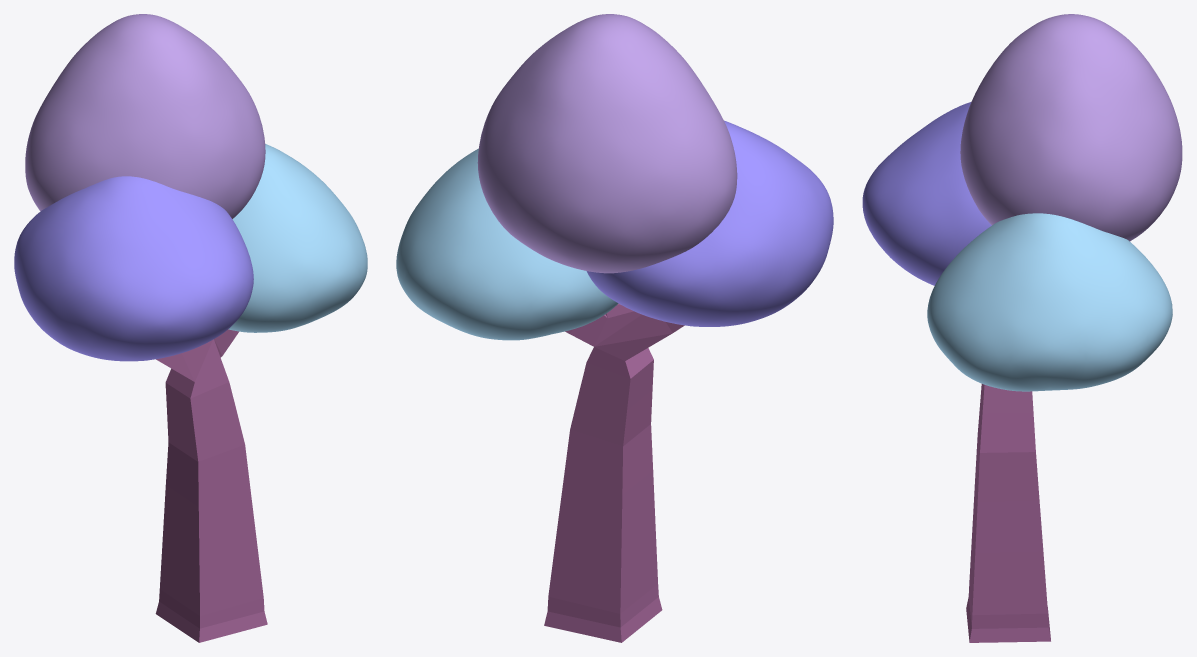
The picture shows the model from 3 angles, left to right: view 1: azimuth 30°, elevation 25°; view 2: azimuth 150°, elevation 25°; view 3: azimuth 270°, elevation 25°; orthographic projection. The views are drawn at different scales.
Visible parts, largest first — view 1: Icosphere.003, Icosphere.004, Plane.014, Icosphere.005; view 2: Icosphere.004, Plane.014, Icosphere.003, Icosphere.005; view 3: Icosphere.004, Icosphere.005, Plane.014, Icosphere.003.
Boxes of the visible parts, bbox=[...] form: Icosphere.003: bbox=[14, 176, 253, 361]; Icosphere.004: bbox=[25, 14, 265, 218]; Plane.014: bbox=[155, 329, 267, 642]; Icosphere.005: bbox=[228, 144, 367, 332]; Icosphere.004: bbox=[477, 14, 737, 273]; Plane.014: bbox=[544, 303, 684, 642]; Icosphere.003: bbox=[586, 120, 833, 326]; Icosphere.005: bbox=[396, 148, 618, 340]; Icosphere.004: bbox=[960, 14, 1182, 241]; Icosphere.005: bbox=[927, 213, 1172, 391]; Plane.014: bbox=[966, 384, 1050, 642]; Icosphere.003: bbox=[862, 102, 991, 285].
Bounding box in the file's own units: 160 × 262 × 129.
